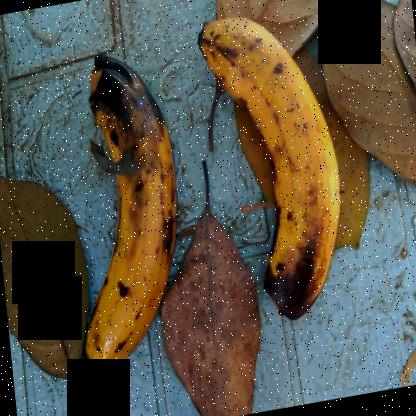overripe: (189, 12, 341, 323)
rotten: (57, 11, 190, 382)
